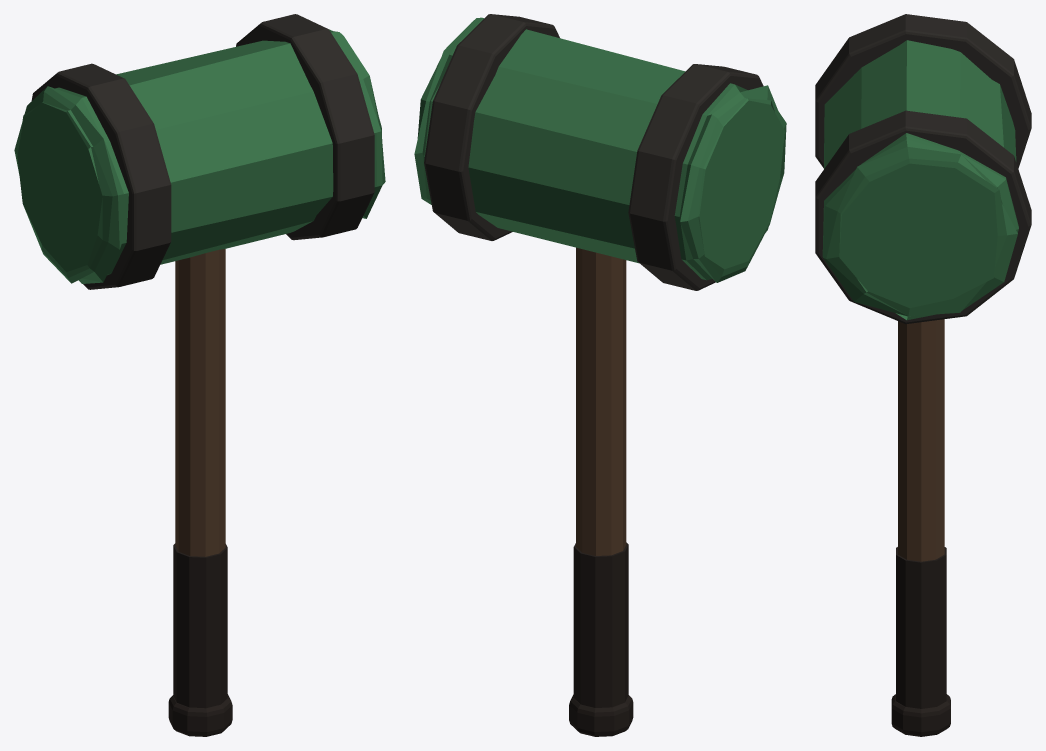
File: hammer_iwadaru.fbx
The picture shows the model from 3 angles, left to right: view 1: azimuth 30°, elevation 25°; view 2: azimuth 150°, elevation 25°; view 3: azimuth 270°, elevation 25°; orthographic projection. The views are drawn at different scales.
Parts seen in each view (by area): view 1: iwadaru_hammer; view 2: iwadaru_hammer; view 3: iwadaru_hammer.
Part boxes in pixels (box(x1,y1,x2,y2)): iwadaru_hammer: box(14, 14, 385, 736); iwadaru_hammer: box(414, 14, 786, 736); iwadaru_hammer: box(815, 14, 1031, 736).
Size of the model in its own units: 1.16 by 2.66 by 0.7938.
